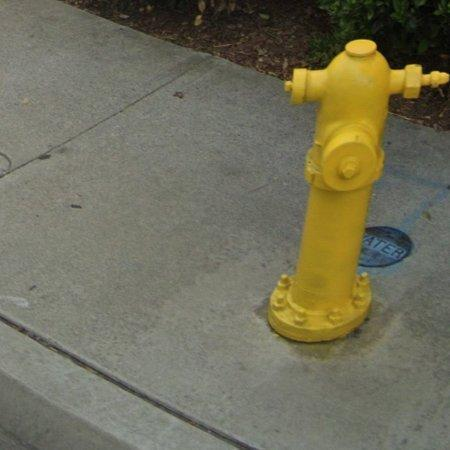a fire hydrant: (269, 39, 450, 342)
